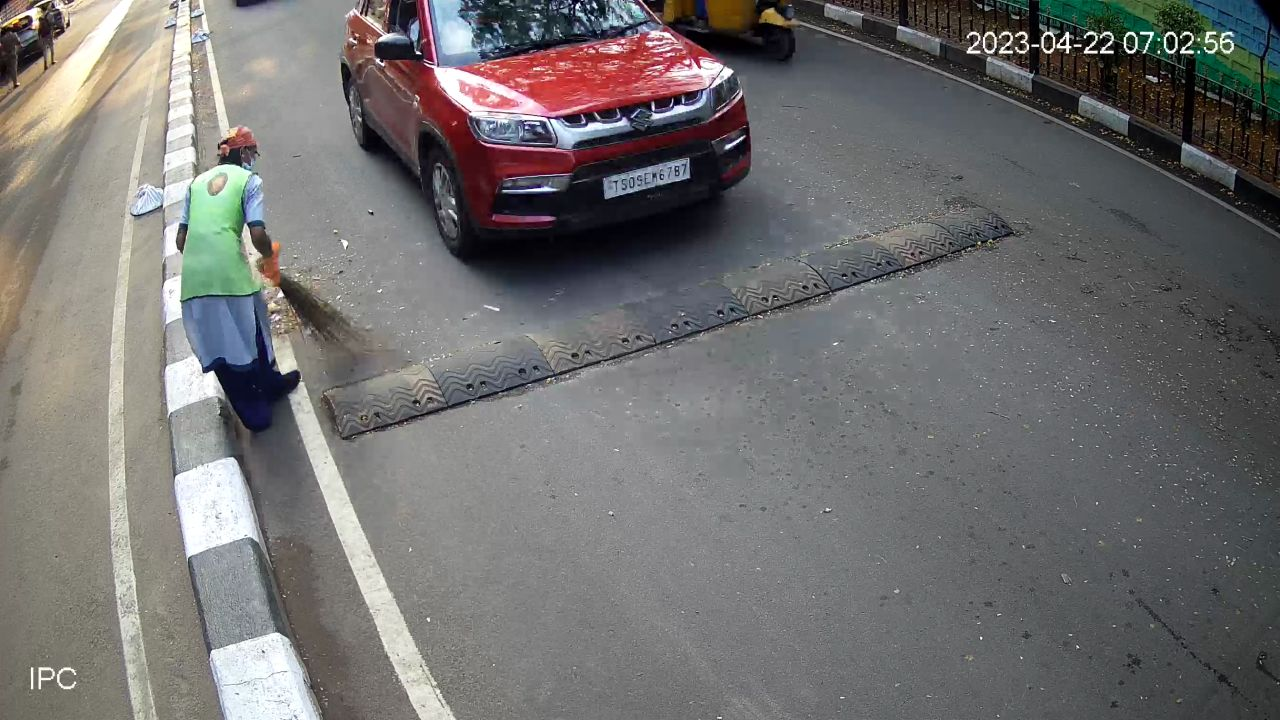license_plate: (598, 151, 700, 209)
